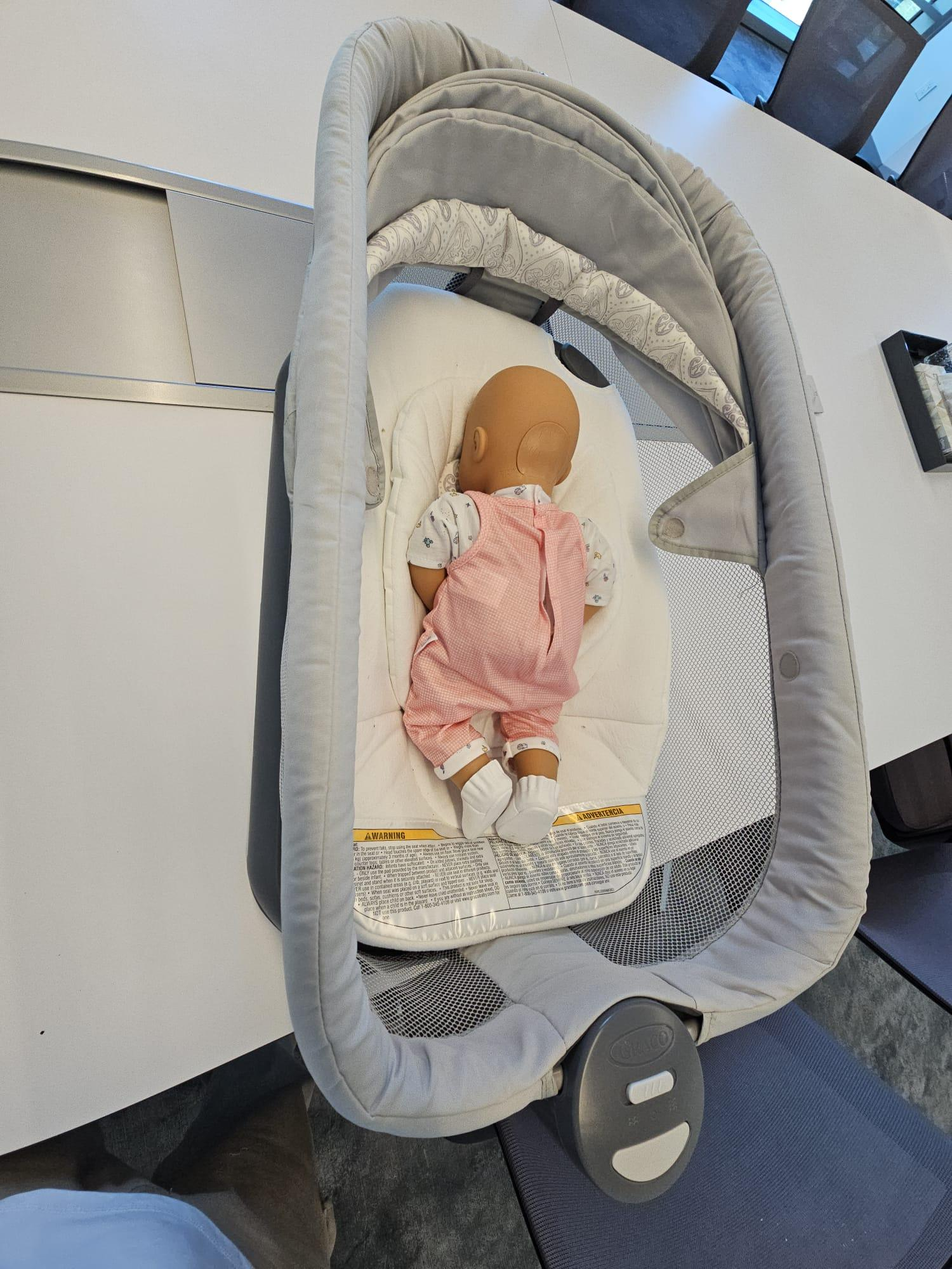baby: (397, 347, 627, 841)
